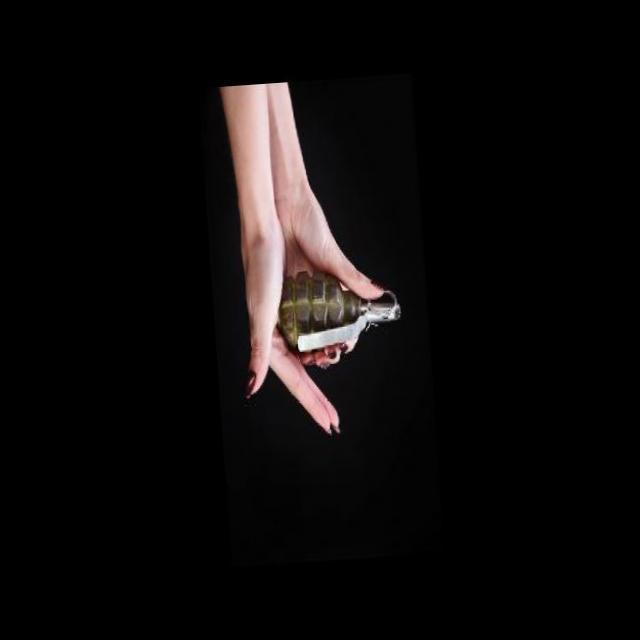grenade: (270, 253, 410, 367)
